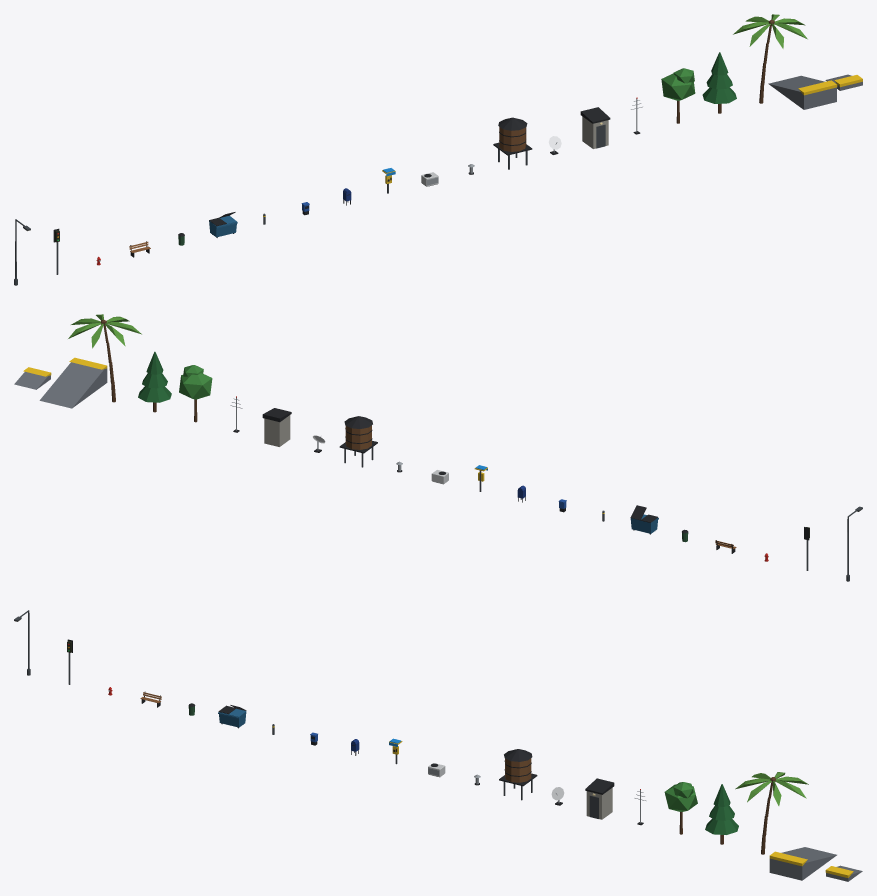
Rendered from props.glb.
3 renders of one model, top to bottom at view 1: azimuth 30°, elevation 25°; view 2: azimuth 150°, elevation 25°; view 3: azimuth 330°, elevation 25°, orthographic.
Parts seen in each view (by area): view 1: ramp_deck, tree_round_canopy, water_tank_barrel; view 2: ramp_deck, tree_round_canopy, rooftop_door_hut, water_tank_barrel; view 3: ramp_deck, water_tank_barrel, tree_round_canopy.
Boxes of the visible parts, x1,y1,x2,y2 form: ramp_deck: (768,75,836,109); tree_round_canopy: (661,73,695,100); water_tank_barrel: (499,127,526,151); ramp_deck: (39,362,107,408); tree_round_canopy: (179,373,212,399); rooftop_door_hut: (264,415,290,446); water_tank_barrel: (345,425,371,449); ramp_deck: (769,847,836,880); water_tank_barrel: (505,758,531,782); tree_round_canopy: (664,784,697,811).
Bounding box in the file's own units: 81.29 × 7.47 × 6.43.
